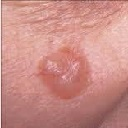Carcinoma: (32, 46, 90, 96)
